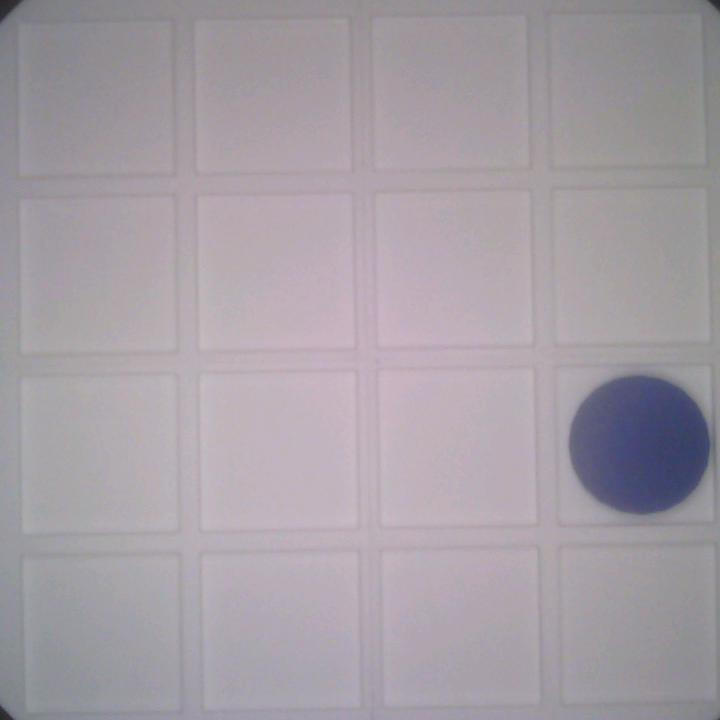Blue circle: (563, 369, 712, 525)
